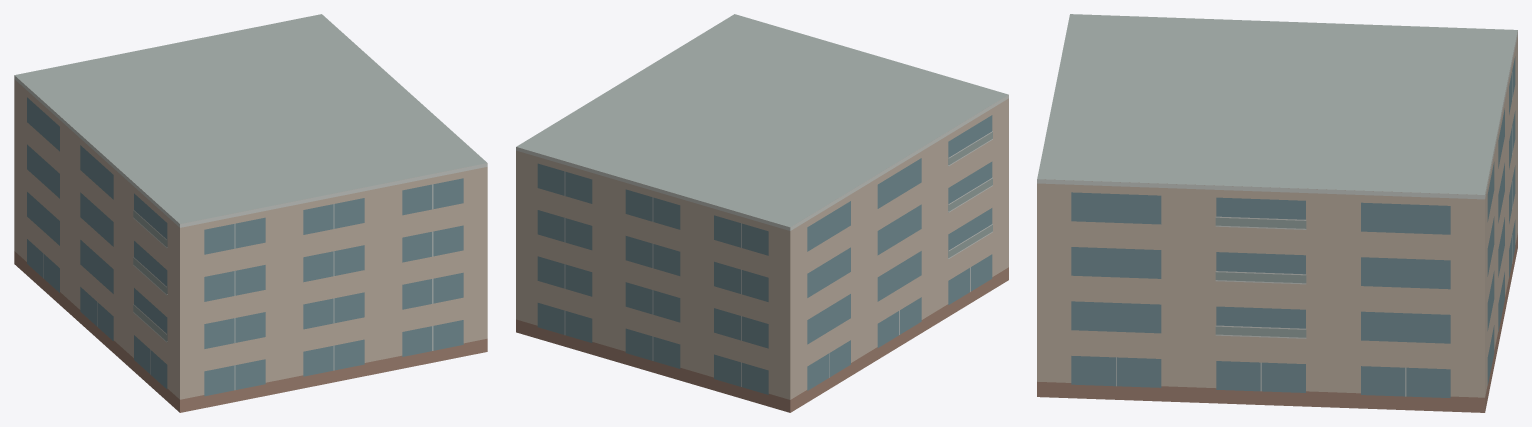
The model's file is residential-85b55bd1-0447-4502-b4c0-21f0f877d09a.glb.
The picture shows the model from 3 angles, left to right: view 1: azimuth 30°, elevation 25°; view 2: azimuth 150°, elevation 25°; view 3: azimuth 270°, elevation 25°; orthographic projection. The views are drawn at different scales.
Parts seen in each view (by area): view 1: residential-85b55bd1-0447-4502-b4c0-21f0f877d09a.tmp; view 2: residential-85b55bd1-0447-4502-b4c0-21f0f877d09a.tmp; view 3: residential-85b55bd1-0447-4502-b4c0-21f0f877d09a.tmp.
Part boxes in pixels (left/top/right/bottom): residential-85b55bd1-0447-4502-b4c0-21f0f877d09a.tmp: left=14, top=14, right=487, bottom=412; residential-85b55bd1-0447-4502-b4c0-21f0f877d09a.tmp: left=516, top=14, right=1008, bottom=412; residential-85b55bd1-0447-4502-b4c0-21f0f877d09a.tmp: left=1037, top=14, right=1517, bottom=412.
Bounding box in the file's own units: 21.76 × 12.2 × 24.41.
